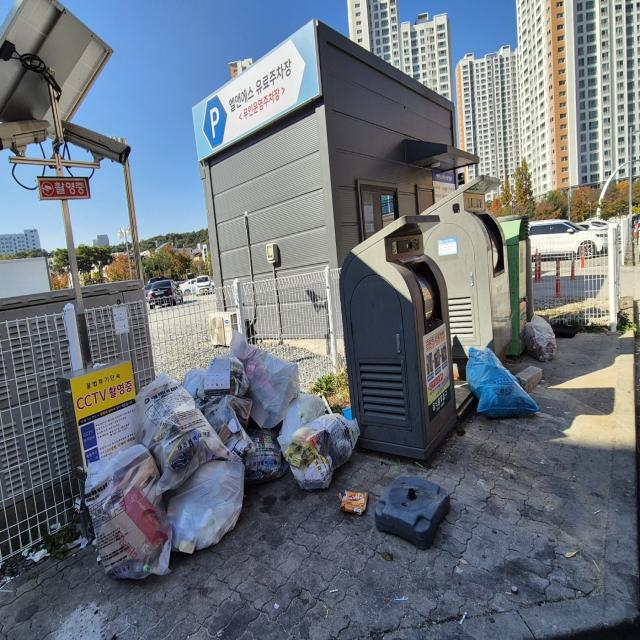CleanNet: (342, 215, 460, 464), (428, 177, 512, 361)
General Waste: (95, 336, 355, 584), (86, 455, 175, 578), (136, 377, 225, 480), (287, 412, 361, 486), (468, 346, 539, 419), (240, 428, 285, 483)
